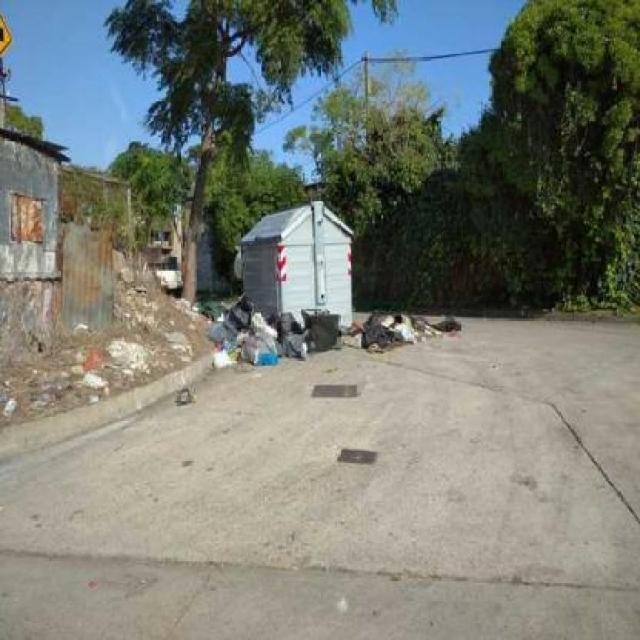garbage: (120, 254, 187, 370), (194, 278, 275, 370), (8, 349, 121, 409), (63, 323, 154, 388), (357, 305, 470, 353), (272, 308, 354, 354), (169, 383, 198, 422)
